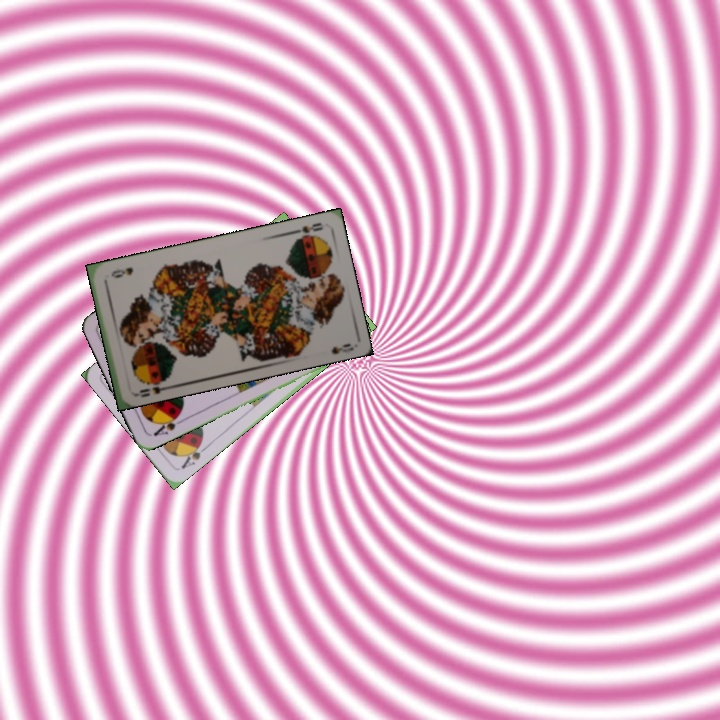SA: (149, 409, 187, 439), (177, 437, 210, 471)
SO: (130, 375, 171, 400), (287, 218, 325, 237)
